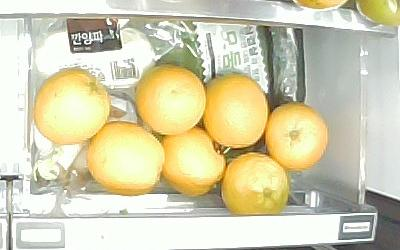orange: (32, 68, 109, 146), (88, 122, 165, 195), (202, 72, 268, 147), (135, 66, 206, 135), (159, 126, 226, 197), (222, 151, 290, 215), (267, 101, 328, 172)
